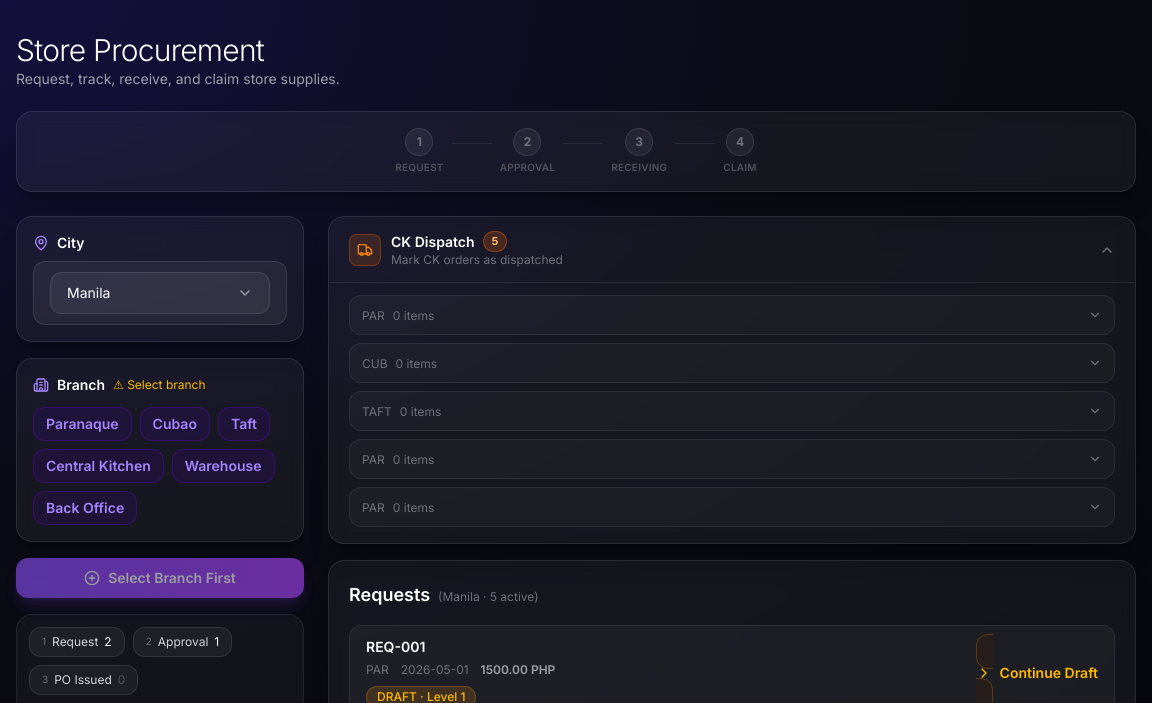
Test: StoreProcurementHomePage › RequestDetailDrawer › opens drawer when a request row is clicked
Step 1. Click the text "REQ-001" → [396, 647], box 366,638 -> 425,656
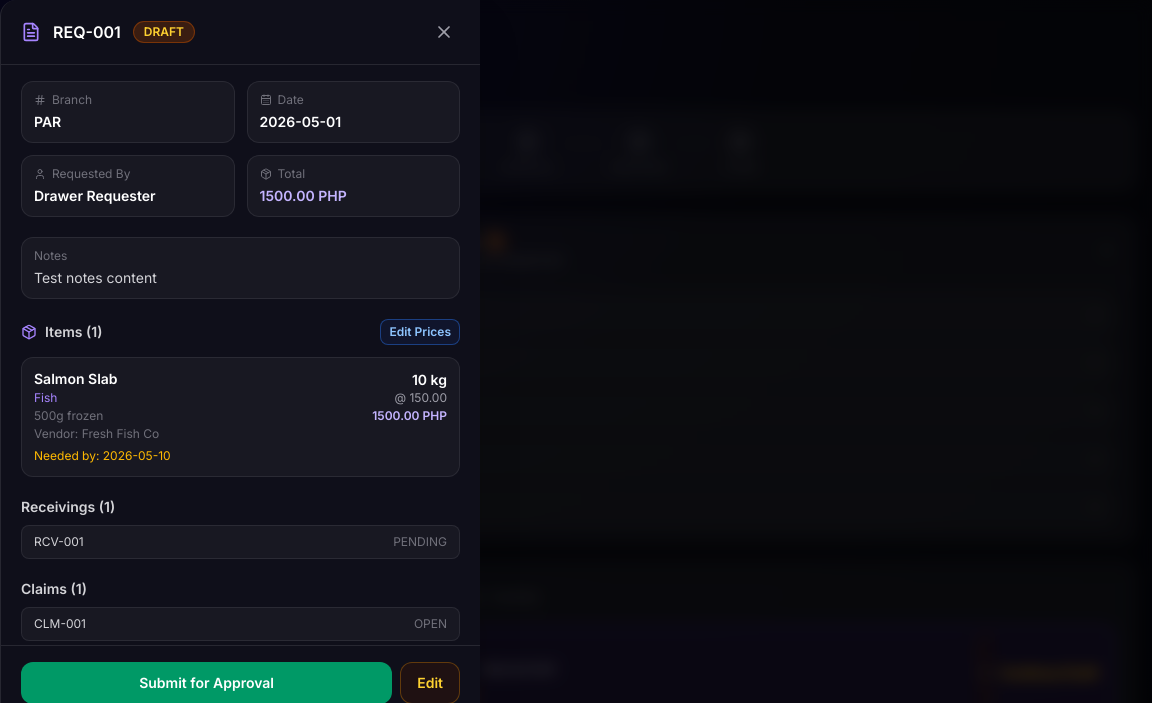
Expected: the text "Drawer Requester" is shown, 34,187 -> 156,204
